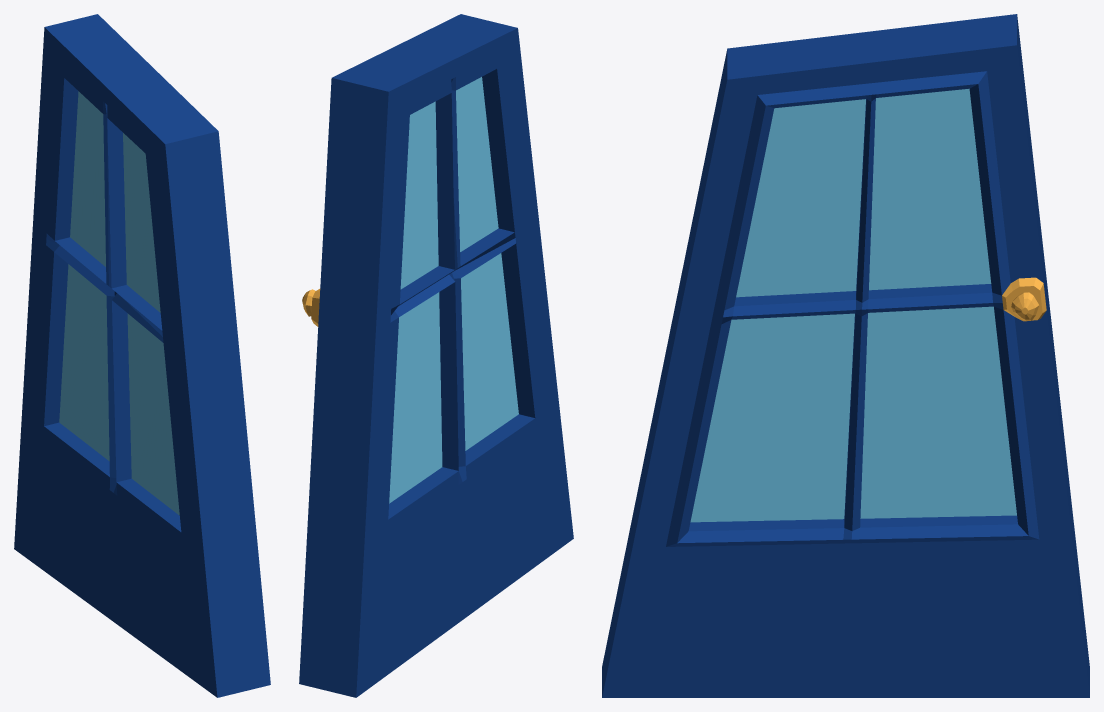
The model's file is Portes_Gauche_Clean.fbx.
The picture shows the model from 3 angles, left to right: view 1: azimuth 30°, elevation 25°; view 2: azimuth 150°, elevation 25°; view 3: azimuth 270°, elevation 25°; orthographic projection. The views are drawn at different scales.
Visible parts, largest first — view 1: Porte.Gauche_Clean; view 2: Porte.Gauche_Clean; view 3: Porte.Gauche_Clean.
Part boxes in pixels (box(x1,y1,x2,y2)): Porte.Gauche_Clean: box(14, 14, 270, 697); Porte.Gauche_Clean: box(299, 14, 573, 697); Porte.Gauche_Clean: box(602, 14, 1089, 697).
Size of the model in its own units: 55.24 by 377 by 255.
